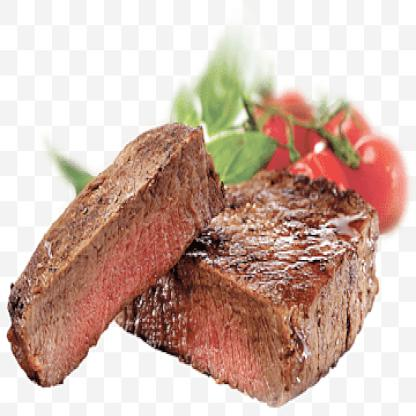Carne: (113, 166, 385, 406), (1, 118, 224, 382)
